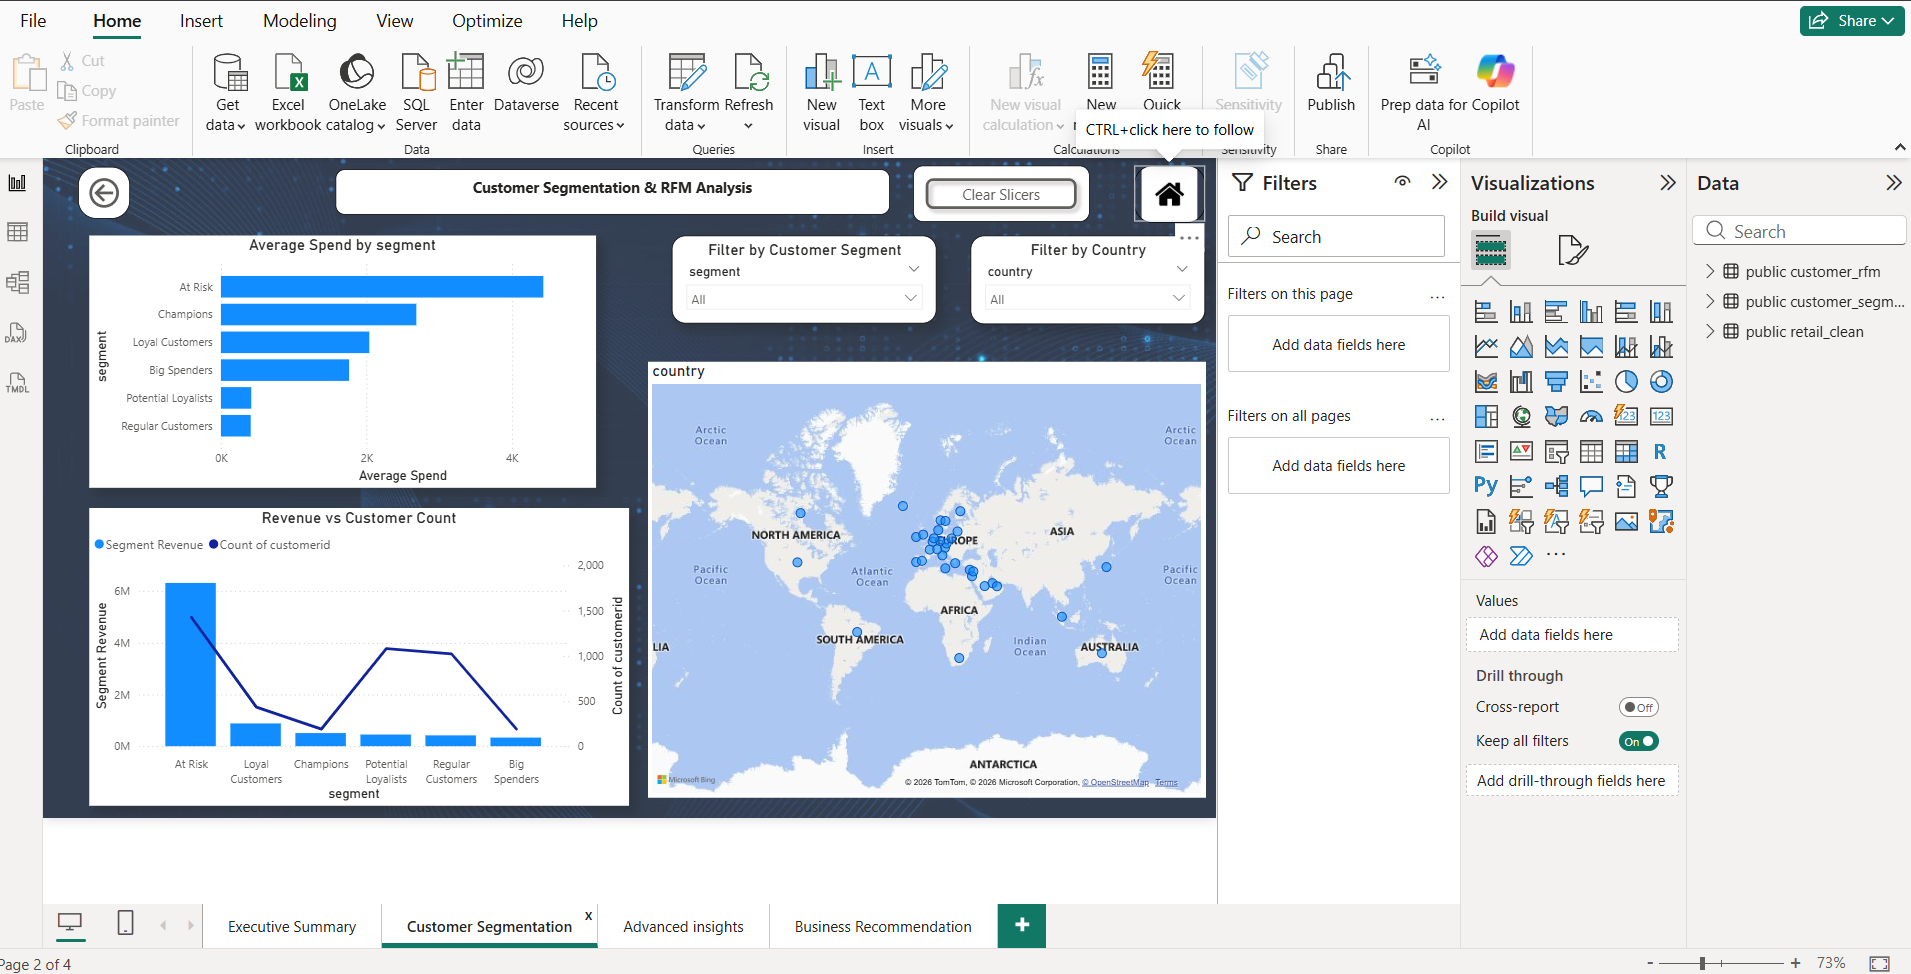

The dashboard page shown, as its layout file describes it:
{"tool":"powerbi","page":{"name":"Customer Segmentation","canvas":[1280,720],"ordinal":1},"visuals":[{"type":"lineStackedColumnComboChart","title":"Revenue vs Customer Count","fields":{"Y":["public customer_rfm.Segment Revenue"],"Category":["public customer_segments.segment"],"Y2":["Count(public customer_segments.customerid)"]},"box":[50.7,381.2,588.7,324.5],"z":0},{"type":"slicer","title":"Filter by Customer Segment","fields":{"Values":["public customer_segments.segment"]},"box":[686.3,84.8,289.2,96.4],"z":1000},{"type":"textbox","box":[319.7,12.1,604.4,49.5],"z":2000},{"type":"clusteredBarChart","fields":{"Category":["public customer_segments.segment"],"Y":["public customer_rfm.Average Spend"]},"box":[50.7,84.5,552.5,275.1],"z":3000},{"type":"slicer","title":"Filter by Country","fields":{"Values":["public retail_clean.country"]},"box":[1012.2,84.5,255.8,96.5],"z":4000},{"type":"actionButton","box":[948.4,7.7,192.8,61.7],"z":5000},{"type":"actionButton","box":[38.6,9.7,56.7,56.7],"z":6000},{"type":"map","fields":{"Category":["public retail_clean.country"]},"box":[659.9,222,608,475.3],"z":7000},{"type":"image","box":[1190,7.5,77.5,62.5],"z":8000}]}

Visuals, with their boxes on the page's 1280x720 design canvas (x1, y1, x2, y2). These are canvas units, not pixel positions in the 1911x974 screenshot, which may show the page scaled, cropped or inside an application window:
"Revenue vs Customer Count" lineStackedColumnComboChart: 51,381,639,706
"Filter by Customer Segment" slicer: 686,85,976,181
textbox: 320,12,924,62
clusteredBarChart - public customer_segments.segment x public customer_rfm.Average Spend: 51,84,603,360
"Filter by Country" slicer: 1012,84,1268,181
actionButton: 948,8,1141,69
actionButton: 39,10,95,66
map - public retail_clean.country: 660,222,1268,697
image: 1190,8,1268,70
